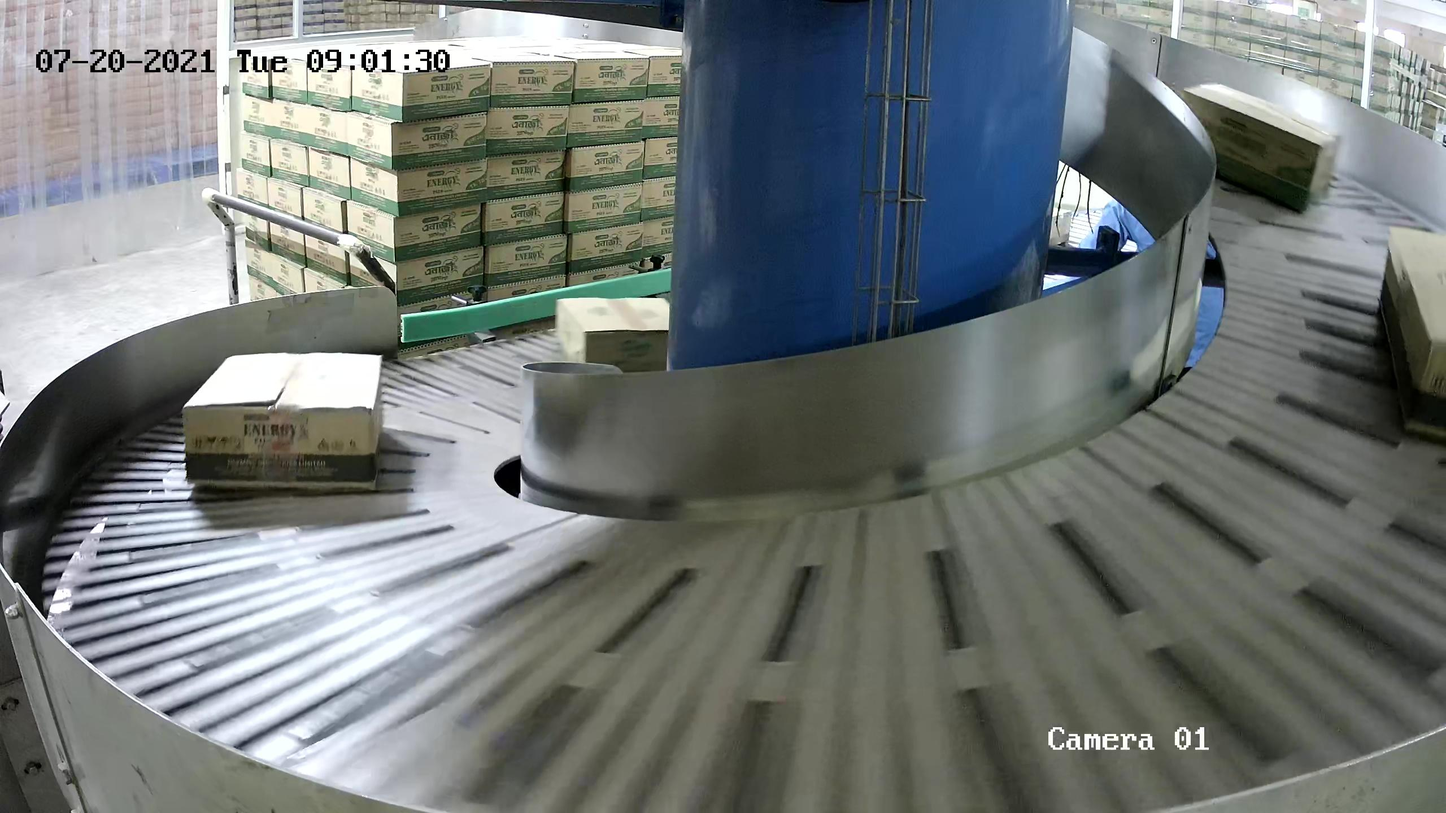Box: (181, 349, 385, 491), (1179, 81, 1346, 216), (1376, 223, 1446, 442)
